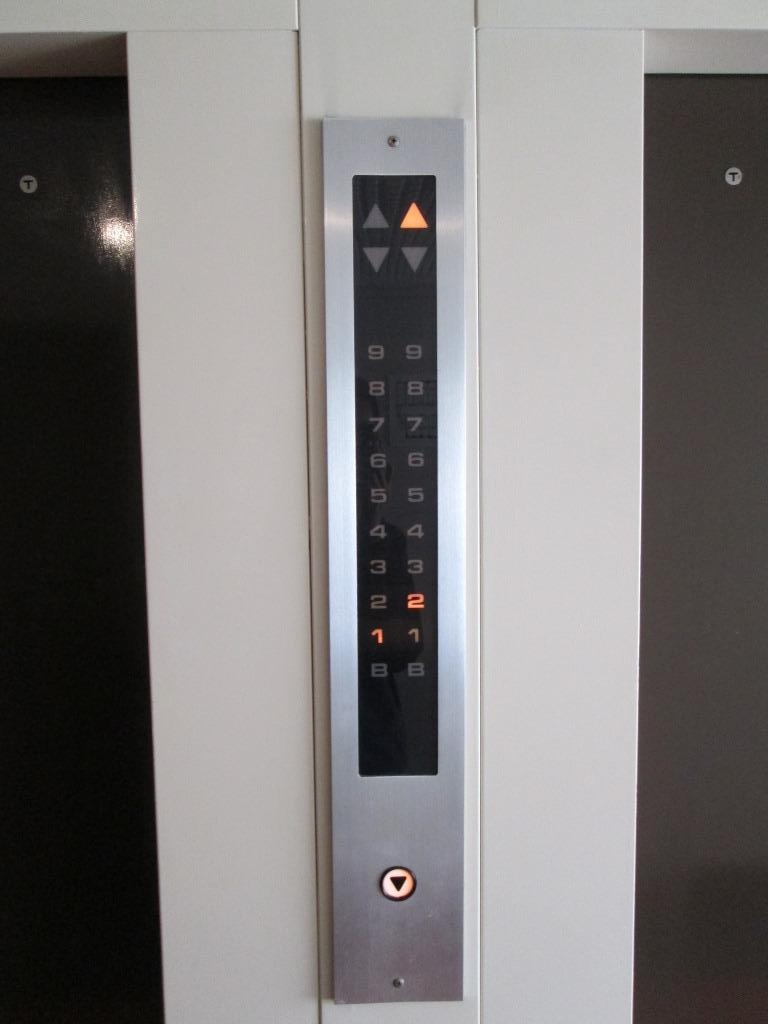down: (378, 860, 419, 905)
led: (347, 166, 443, 783)
